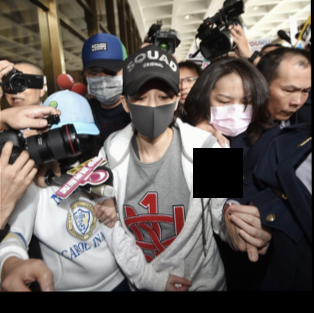with_mask: (124, 84, 176, 144), (206, 90, 253, 136), (84, 67, 124, 106)
without_mask: (265, 79, 311, 122), (3, 70, 42, 108), (176, 73, 198, 105)
